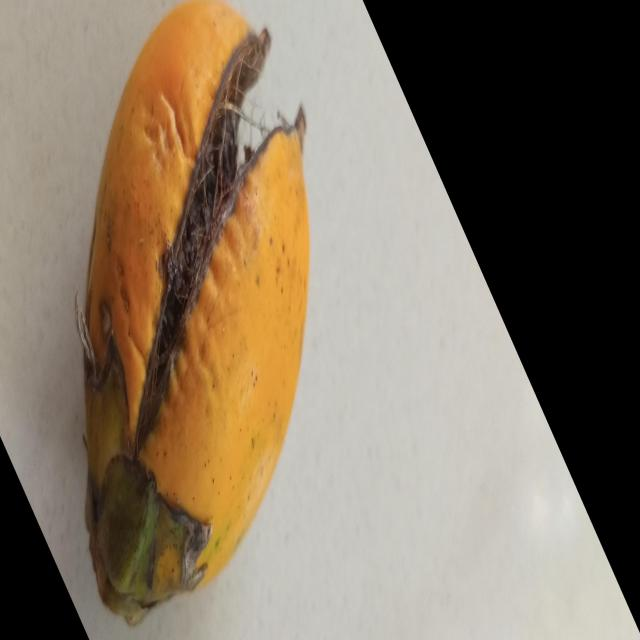damaged: (81, 0, 312, 623)
